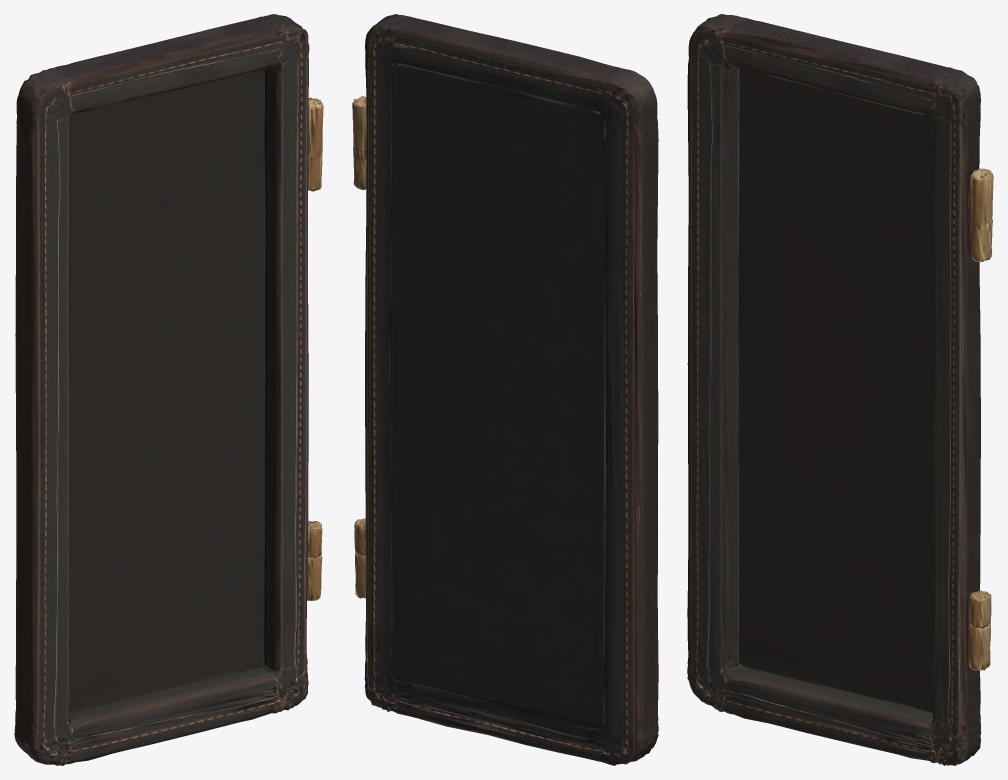
The model's file is executive-meshy-filter-panel.glb.
3 views of the same model, side by side, from view 1: azimuth 30°, elevation 25°; view 2: azimuth 150°, elevation 25°; view 3: azimuth 330°, elevation 25° (orthographic).
Parts seen in each view (by area): view 1: Mesh_0; view 2: Mesh_0; view 3: Mesh_0.
Boxes of the visible parts, bbox=[...] form: Mesh_0: bbox=[14, 14, 323, 765]; Mesh_0: bbox=[352, 14, 658, 765]; Mesh_0: bbox=[687, 14, 993, 765].
Size of the model in its own units: 0.0637 by 0.14 by 0.00788.
Materials: 1 (1 with a texture image).
